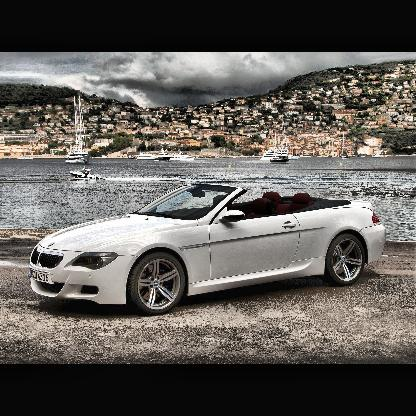BMW M6 Convertible 2010: (32, 182, 391, 316)
